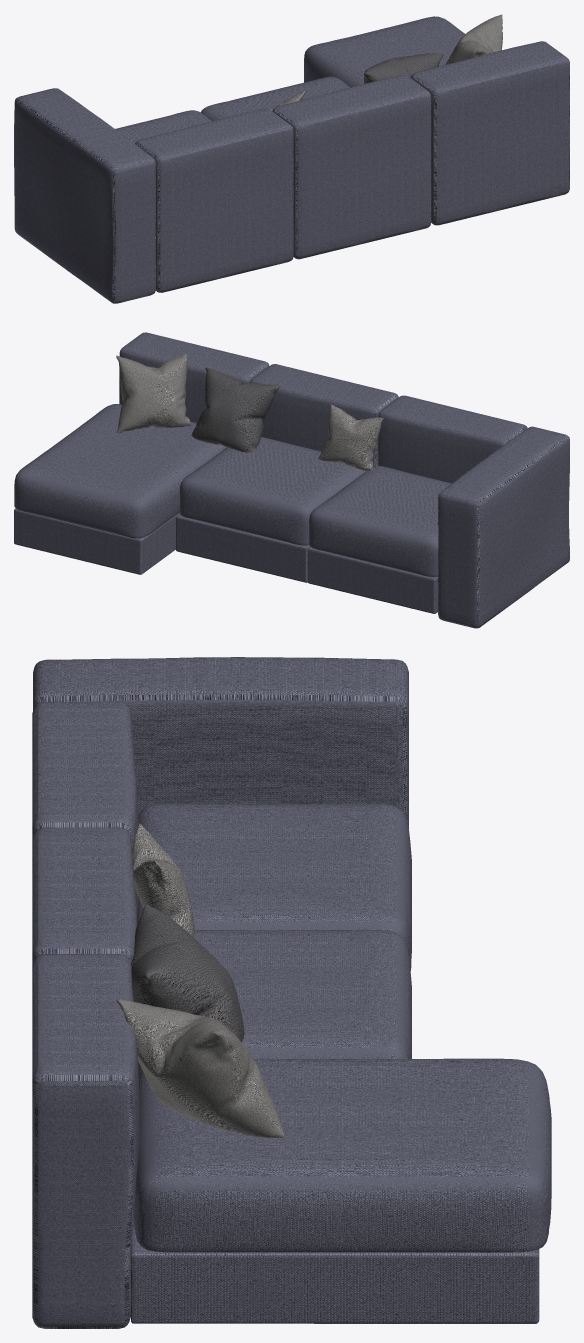
The model's file is furniture_1.glb.
3 renders of one model, top to bottom at view 1: azimuth 30°, elevation 25°; view 2: azimuth 150°, elevation 25°; view 3: azimuth 270°, elevation 25°, orthographic. The views are drawn at different scales.
Visible parts, largest first — view 1: GF_Sofa_Base.001; view 2: GF_Sofa_Base.001; view 3: GF_Sofa_Base.001.
Boxes of the visible parts, x1,y1,x2,y2 form: GF_Sofa_Base.001: [14, 14, 569, 303]; GF_Sofa_Base.001: [14, 332, 569, 628]; GF_Sofa_Base.001: [32, 657, 551, 1328].
Size of the model in its own units: 2.57 by 0.7852 by 1.32.
Materials: 3 (3 with a texture image).
